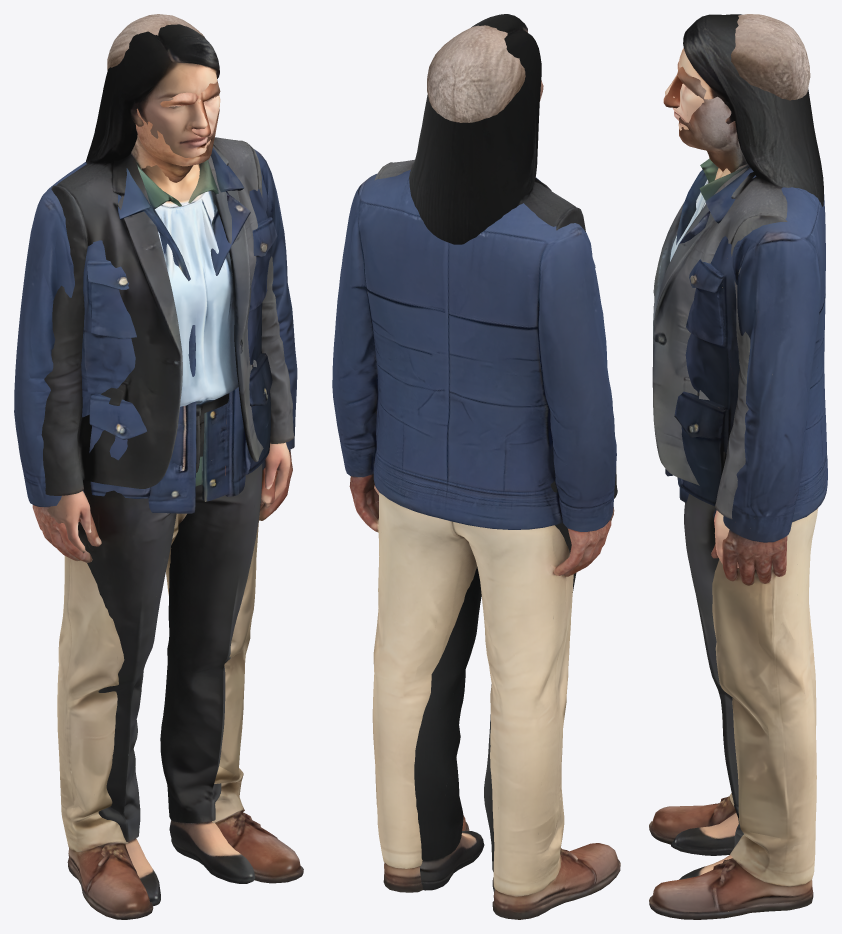
Rendered from viejoverde.glb.
3 views of the same model, side by side, from view 1: azimuth 30°, elevation 25°; view 2: azimuth 150°, elevation 25°; view 3: azimuth 270°, elevation 25° (orthographic).
Visible parts, largest first — view 1: model, model.001; view 2: model.001, model; view 3: model.001, model.
Part boxes in pixels (left/top/right/bottom): model: left=41, top=24, right=294, bottom=906; model.001: left=14, top=14, right=303, bottom=919; model.001: left=332, top=25, right=620, bottom=919; model: left=374, top=14, right=617, bottom=892; model.001: left=649, top=14, right=827, bottom=919; model: left=652, top=14, right=823, bottom=879.
Size of the model in its own units: 0.3363 by 1 by 0.1896.
2 materials, 2 textured.
